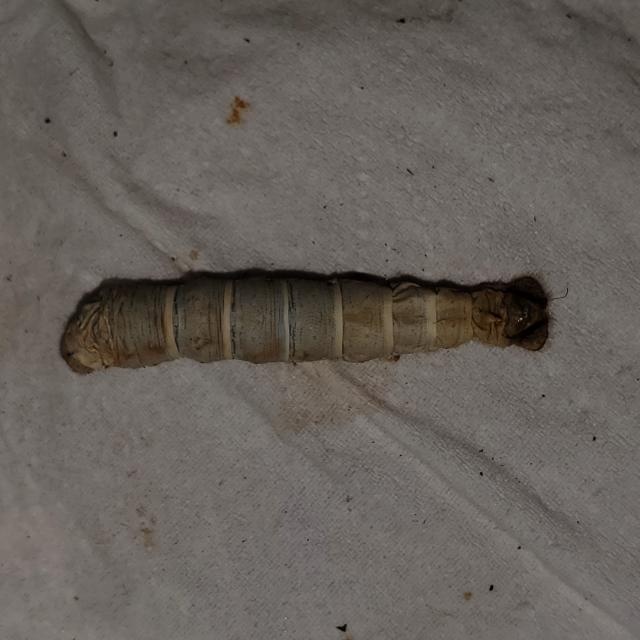Grasserie: (49, 239, 576, 402)
